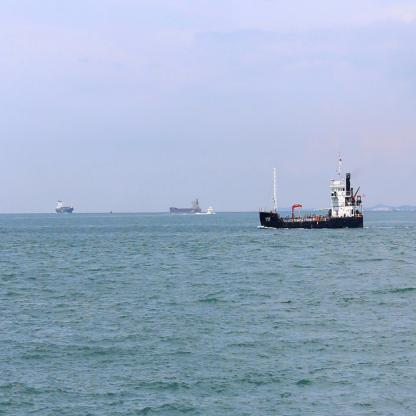Container Ship: (258, 151, 366, 231), (169, 194, 202, 216), (54, 196, 75, 214)
